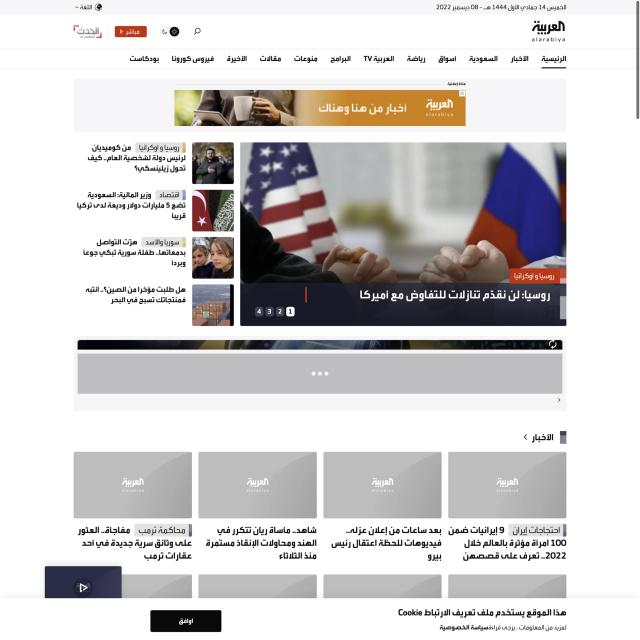logo: (528, 18, 568, 44)
navigation: (126, 48, 568, 70)
